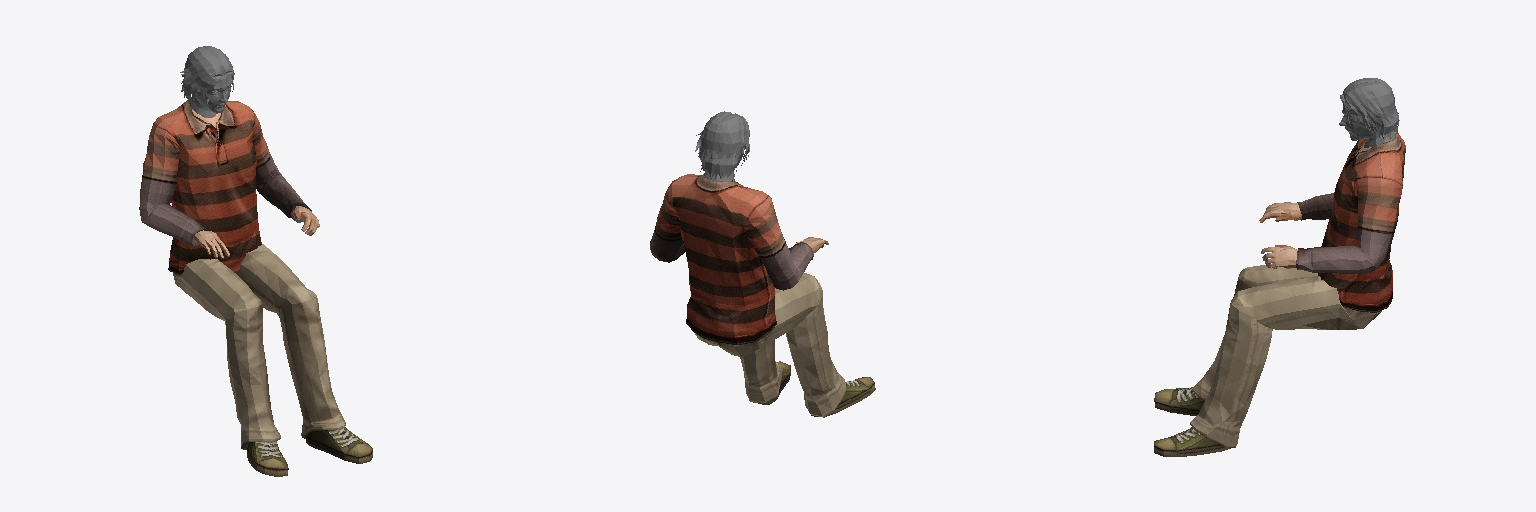
3 renders of one model, left to right at view 1: azimuth 30°, elevation 25°; view 2: azimuth 150°, elevation 25°; view 3: azimuth 270°, elevation 25°, orthographic.
Visible parts, largest first — view 1: Object01; view 2: Object01; view 3: Object01.
Part boxes in pixels (x1,y1,x2,y2): Object01: (139,46,372,476); Object01: (650,111,875,417); Object01: (1154,78,1405,456).
Bounding box in the file's own units: 62.58 × 144 × 95.08.
Materials: 4 (1 with a texture image).